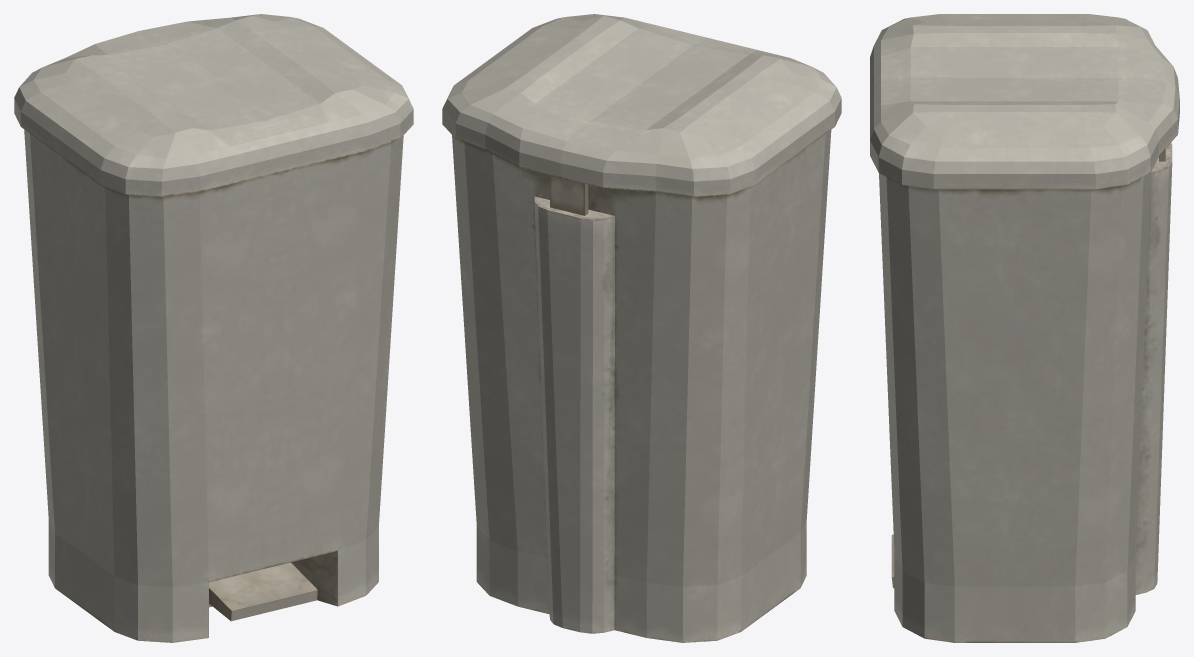
The model's file is lixeira_a.glb.
3 renders of one model, left to right at view 1: azimuth 30°, elevation 25°; view 2: azimuth 150°, elevation 25°; view 3: azimuth 270°, elevation 25°, orthographic.
Parts seen in each view (by area): view 1: lixeira_a; view 2: lixeira_a; view 3: lixeira_a.
Boxes of the visible parts, box(x1,y1,x2,y2) form: lixeira_a: box(14, 14, 413, 642); lixeira_a: box(442, 14, 841, 642); lixeira_a: box(870, 14, 1179, 642).
Bounding box in the file's own units: 0.4156 × 0.654 × 0.3597.
1 material, 1 textured.
